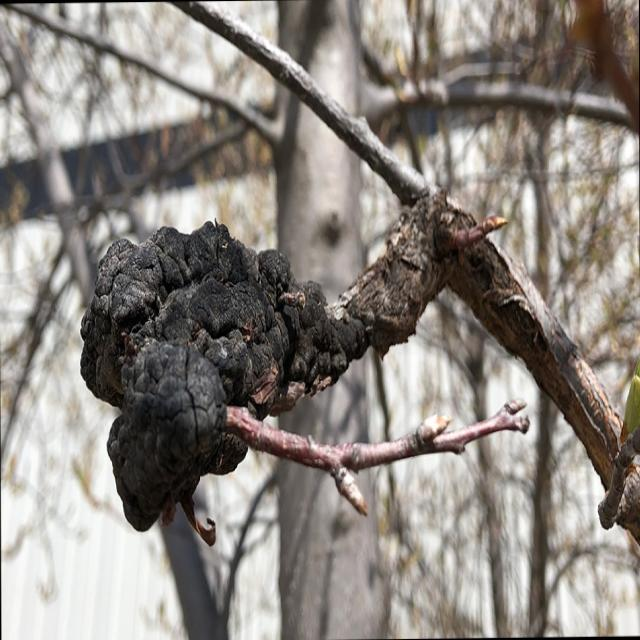Black_knot: (79, 216, 351, 543)
